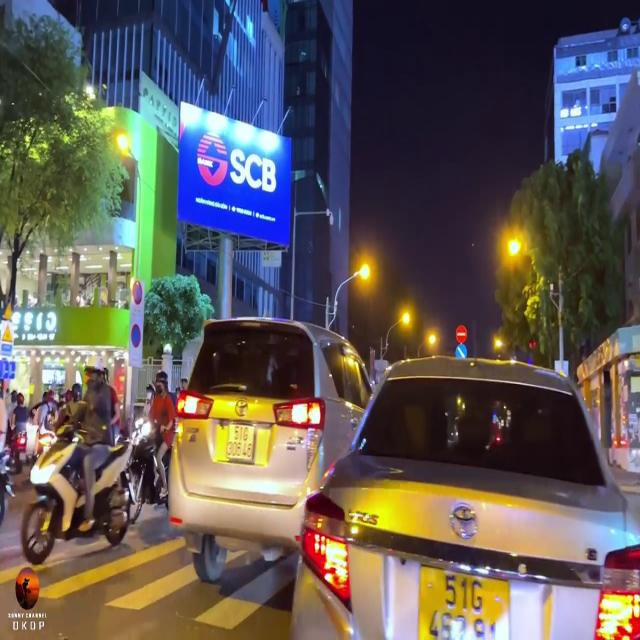bien_trang: (228, 421, 256, 462)
bien_vang: (416, 557, 508, 640)
